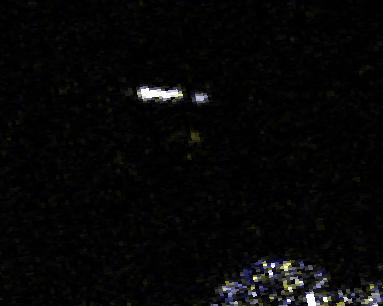ship: (136, 81, 184, 102)
